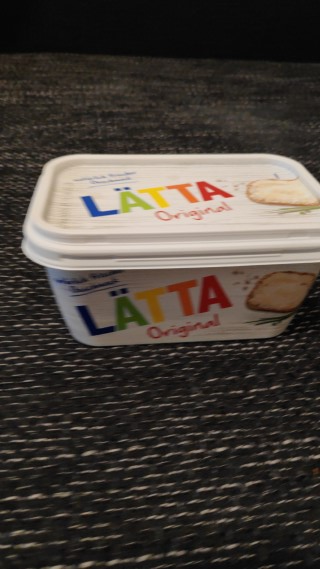laetta: (21, 151, 320, 347)
